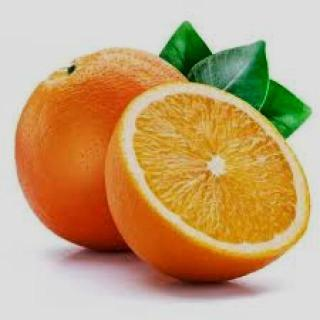orange: (101, 84, 315, 290), (9, 37, 179, 263)
